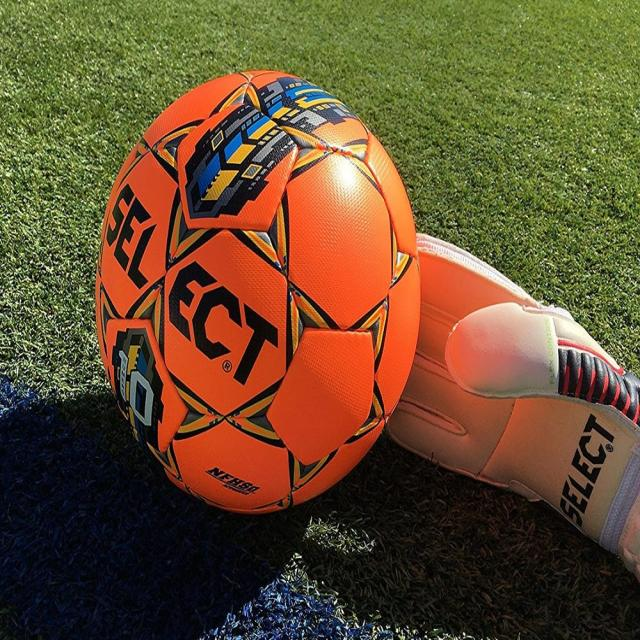soccer ball: (98, 69, 420, 514)
